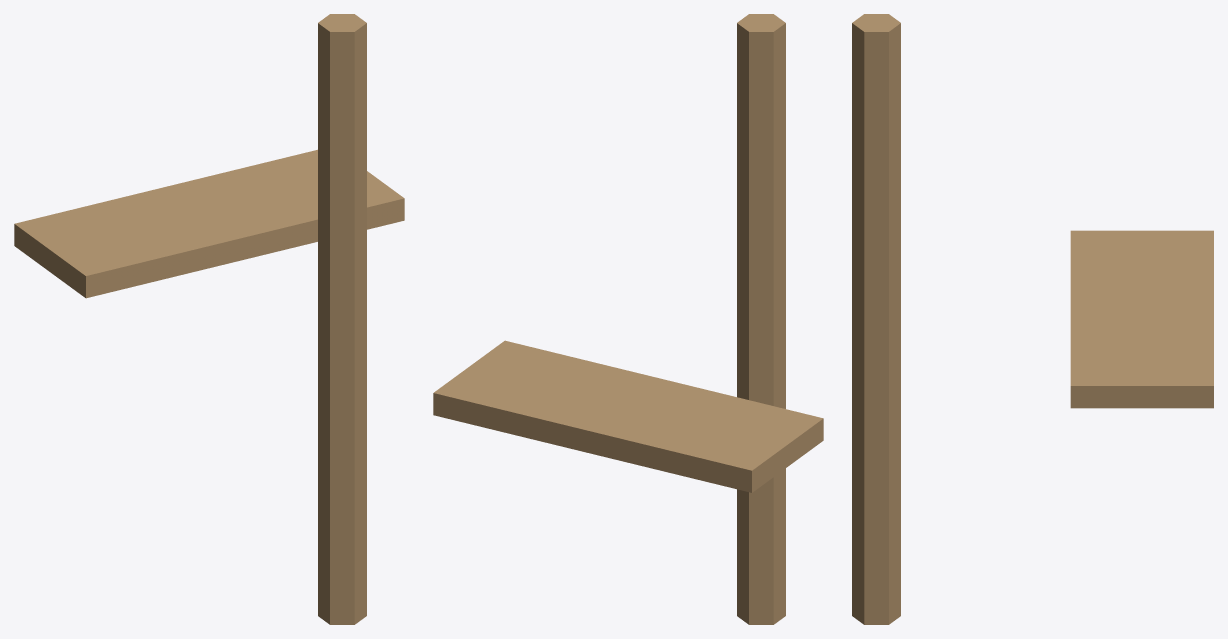
Rendered from sign.fbx.
The picture shows the model from 3 angles, left to right: view 1: azimuth 30°, elevation 25°; view 2: azimuth 150°, elevation 25°; view 3: azimuth 270°, elevation 25°; orthographic projection.
Parts seen in each view (by area): view 1: Post, Board; view 2: Board, Post; view 3: Post, Board.
Boxes of the visible parts, x1,y1,x2,y2 form: Post: (318,14,366,624); Board: (14,149,404,298); Board: (433,340,823,492); Post: (737,14,785,624); Post: (852,14,900,624); Board: (1070,230,1213,408).
Size of the model in its own units: 90 by 160 by 88.5.
